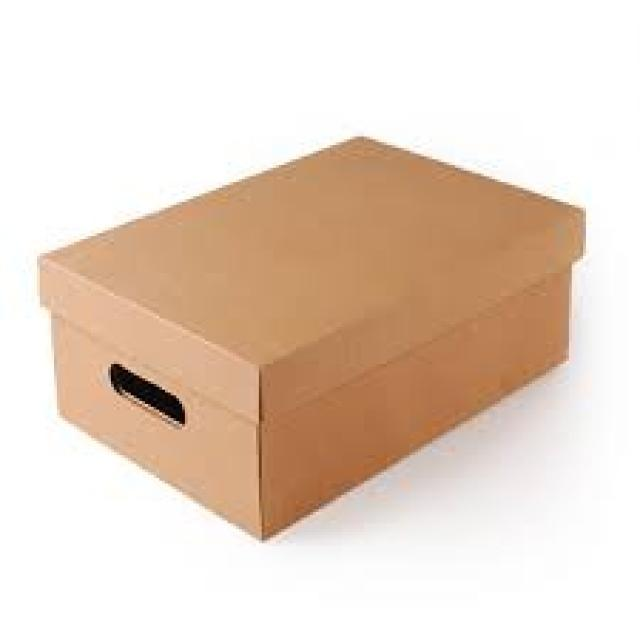Cardboard Paper: (36, 130, 608, 545)
